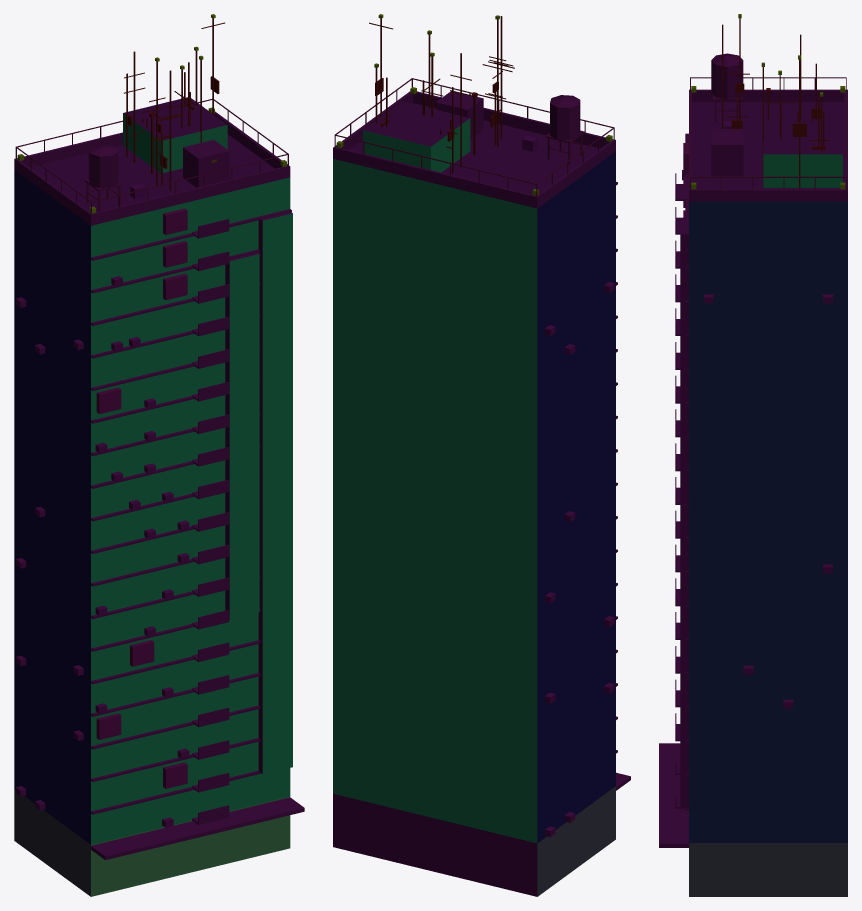
Rendered from slab_i.glb.
3 renders of one model, left to right at view 1: azimuth 30°, elevation 25°; view 2: azimuth 150°, elevation 25°; view 3: azimuth 270°, elevation 25°, orthographic. The views are drawn at different scales.
Parts seen in each view (by area): view 1: slab_i; view 2: slab_i; view 3: slab_i.
Boxes of the visible parts, box(x1,y1,x2,y2) form: slab_i: box(14, 14, 304, 896); slab_i: box(333, 14, 630, 896); slab_i: box(659, 14, 847, 896).
Size of the model in its own units: 20.3 by 73.67 by 15.2.
